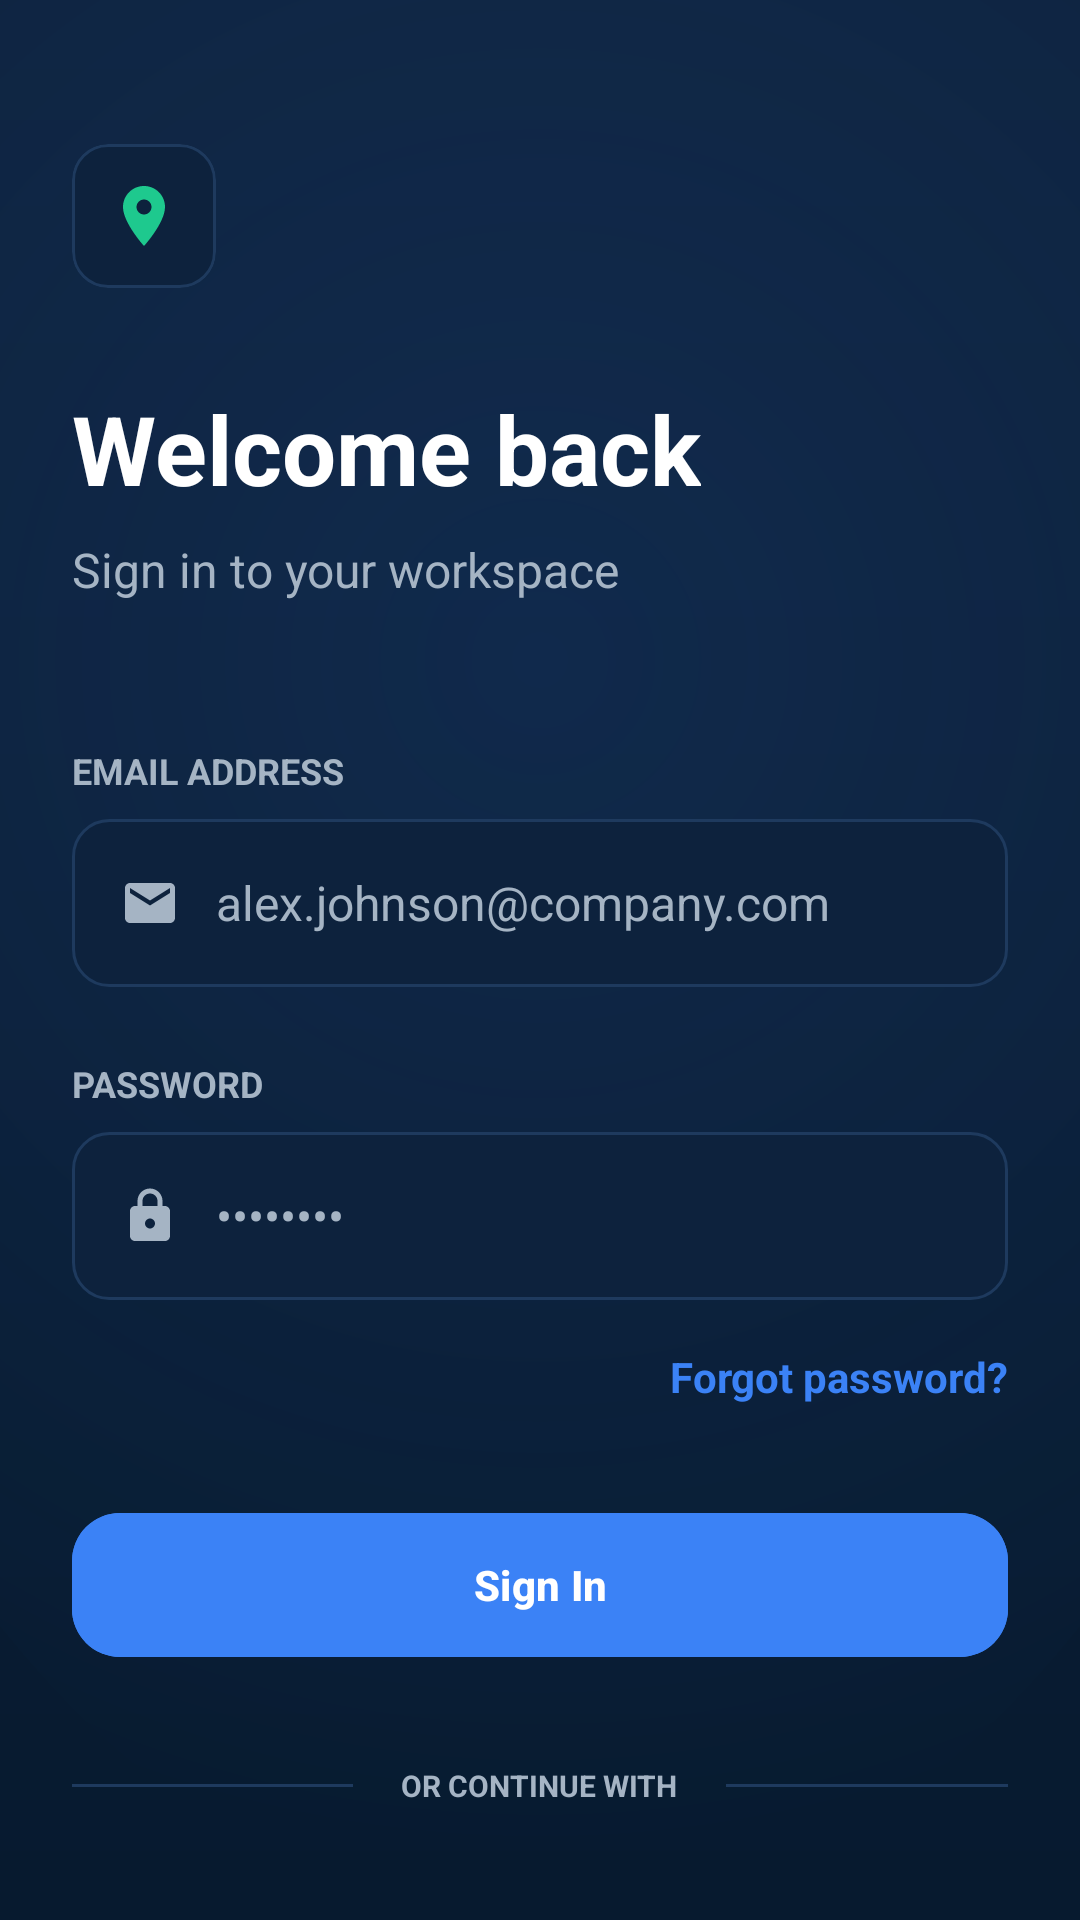

Where to tap for icons on this 1080x1920 app screen, as [x,y]:
location pin: [144,216]
lock: [150,1214]
